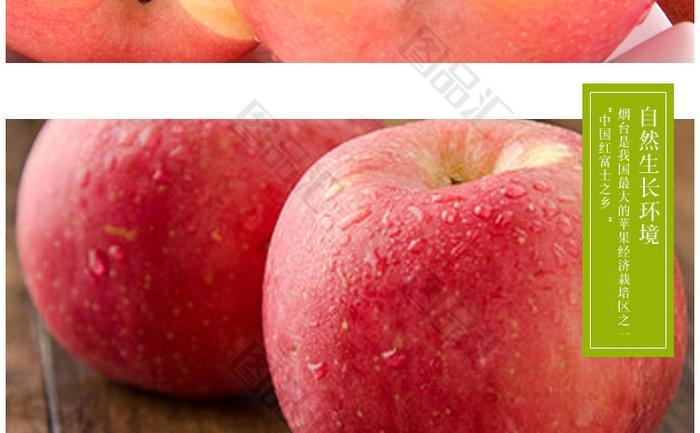apple: (262, 119, 687, 433), (13, 111, 321, 398), (4, 1, 268, 75)
